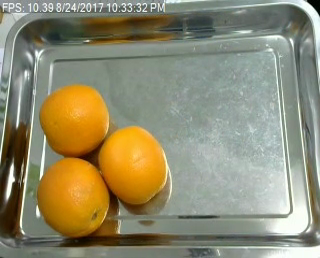Orange: (36, 156, 110, 237), (96, 124, 167, 206), (40, 83, 109, 156)
